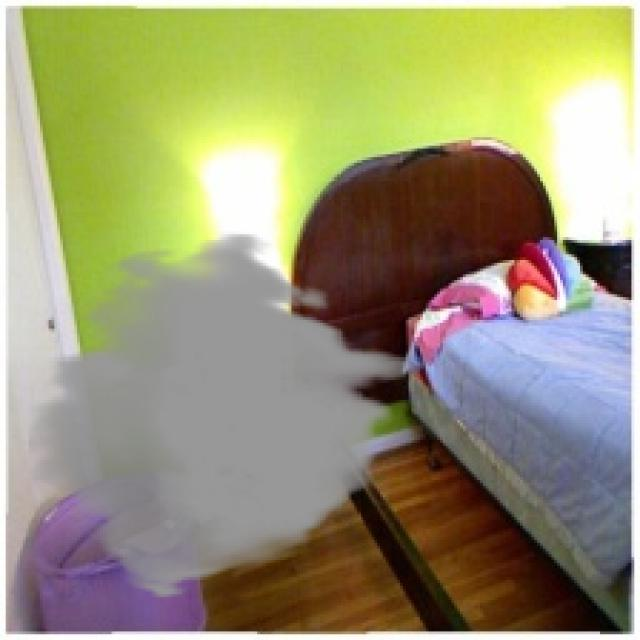smoke: (28, 231, 406, 600)
